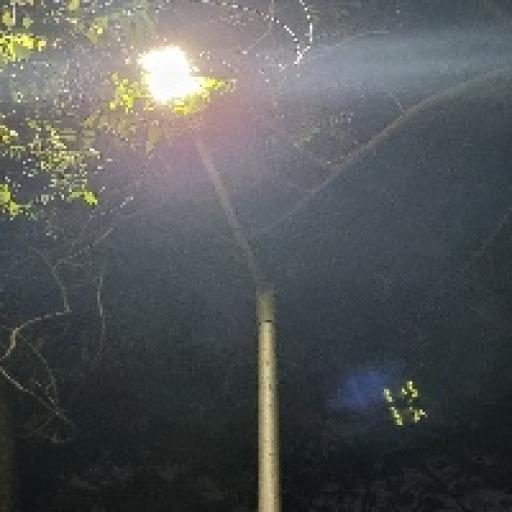Working: (127, 32, 229, 134)
